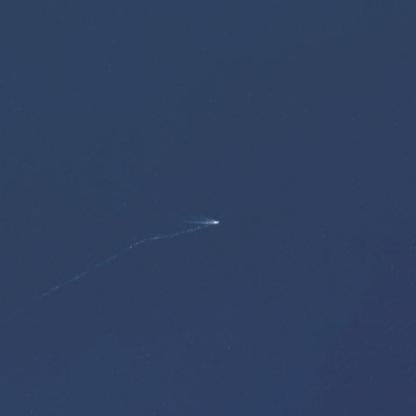ship: (201, 214, 224, 229)
